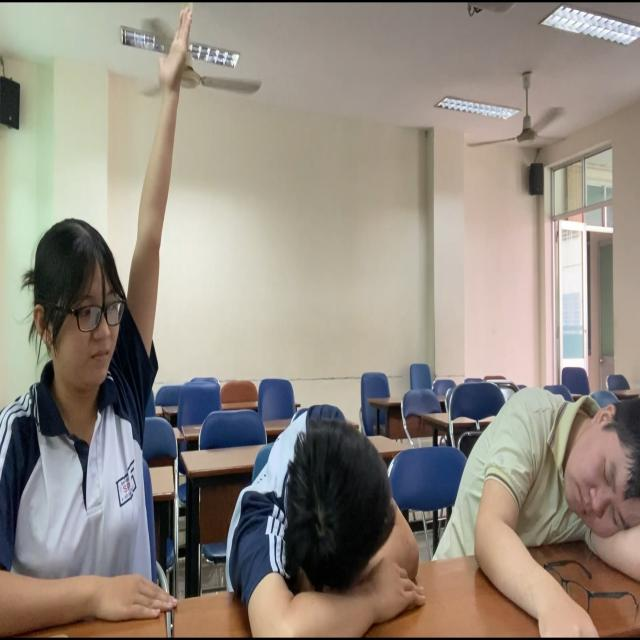raise_hand: (18, 3, 221, 640)
sleep: (230, 401, 435, 640), (447, 374, 640, 603)
